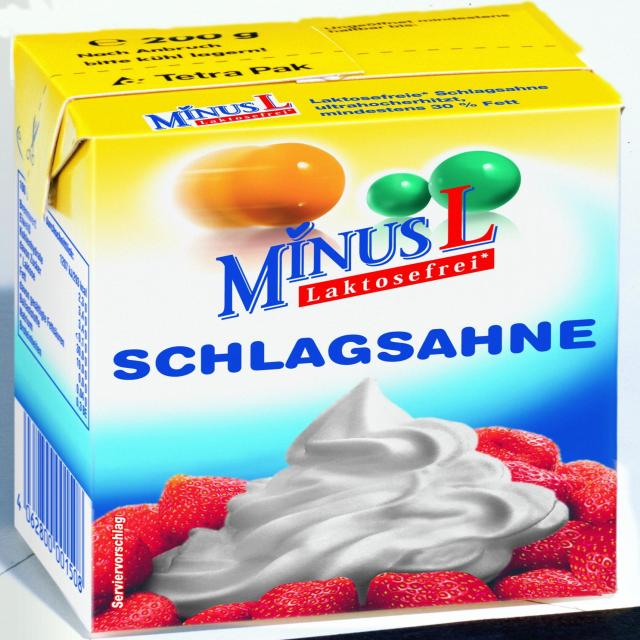Cream: (14, 4, 621, 631)
